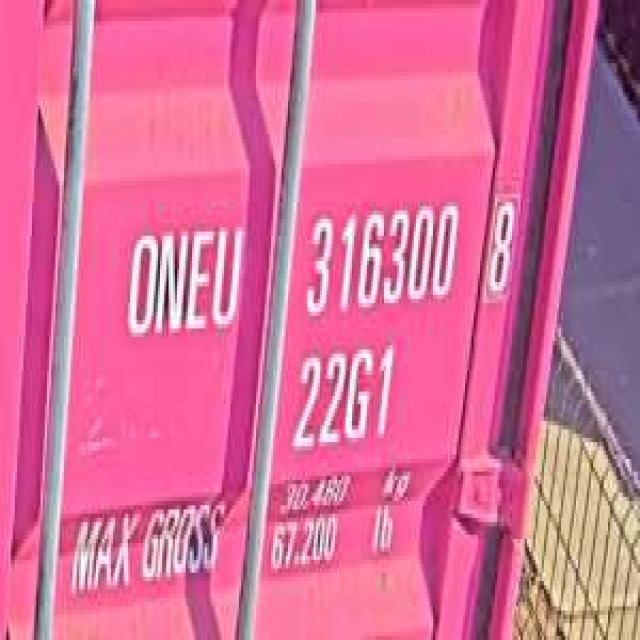dv: (484, 185, 516, 299)
owner: (122, 211, 245, 341)
serial: (301, 194, 458, 320)
size: (292, 337, 397, 450)
